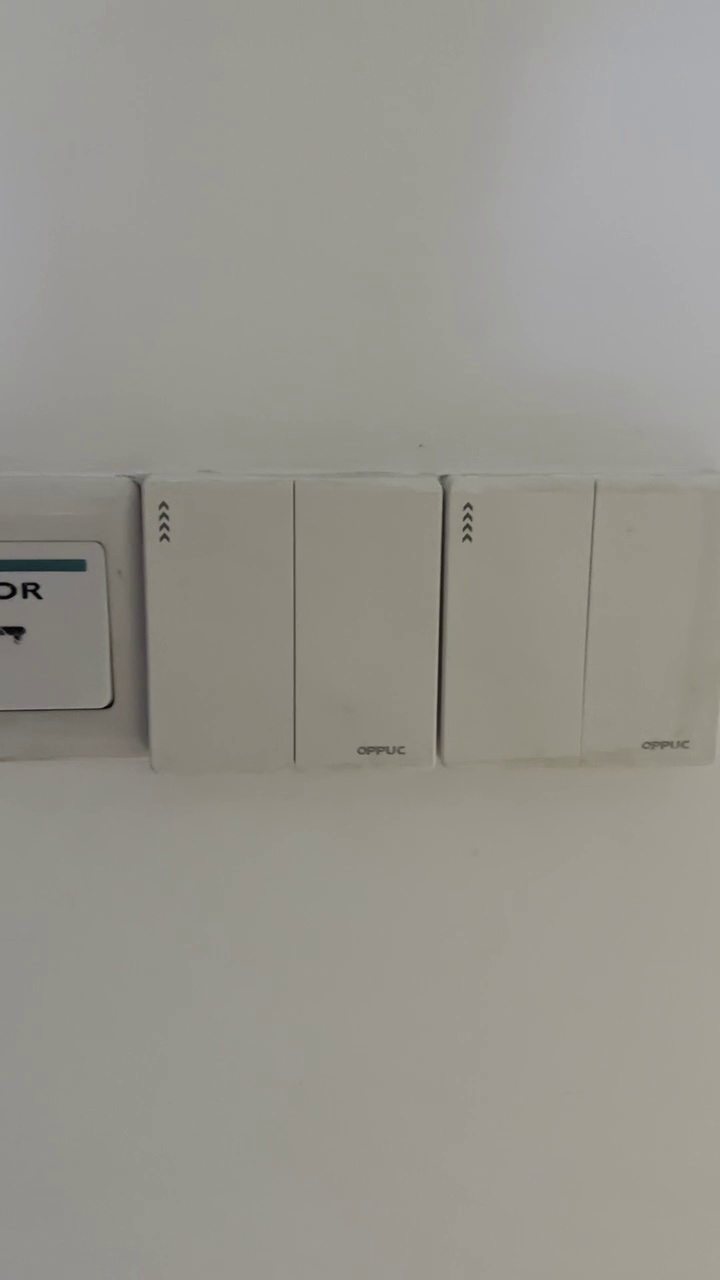button1: (446, 482, 590, 767), (151, 484, 292, 774), (299, 487, 437, 767), (591, 484, 718, 755)
